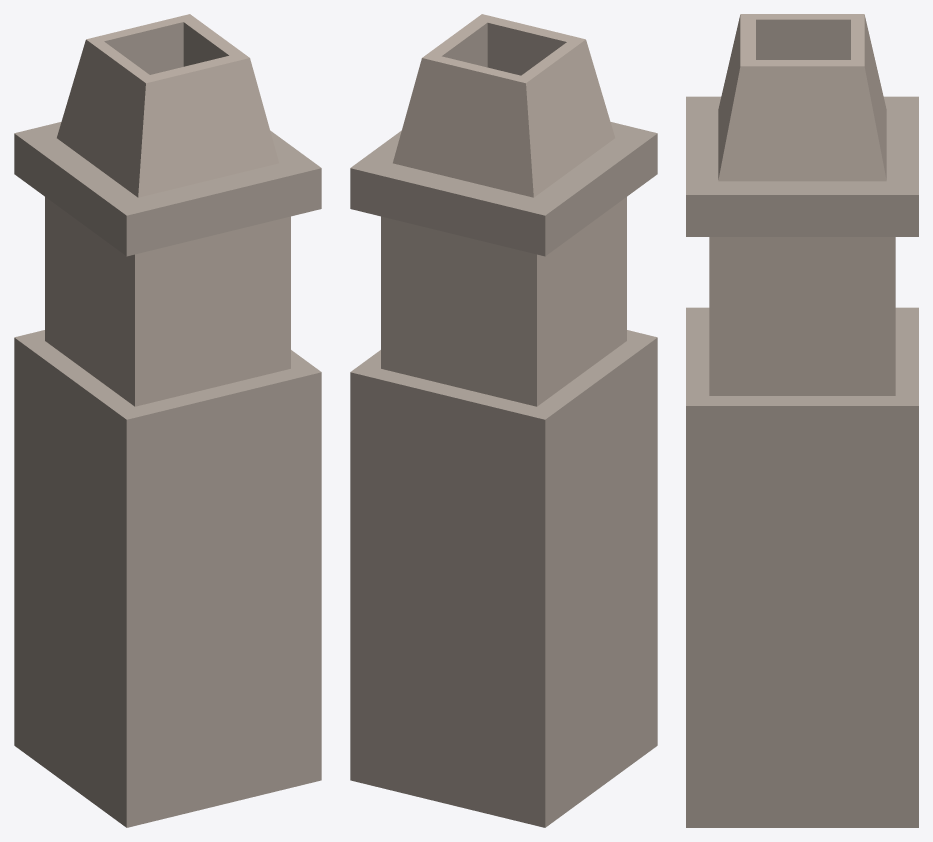
File: Roof_Prop_Chimney_Stone.glb
3 renders of one model, left to right at view 1: azimuth 30°, elevation 25°; view 2: azimuth 150°, elevation 25°; view 3: azimuth 270°, elevation 25°, orthographic. The views are drawn at different scales.
Parts seen in each view (by area): view 1: object1; view 2: object1; view 3: object1.
Part boxes in pixels (x1,y1,x2,y2): object1: (14, 14, 321, 827); object1: (350, 14, 657, 827); object1: (686, 14, 918, 827).
Bounding box in the file's own units: 0.5 × 1.75 × 0.5.
